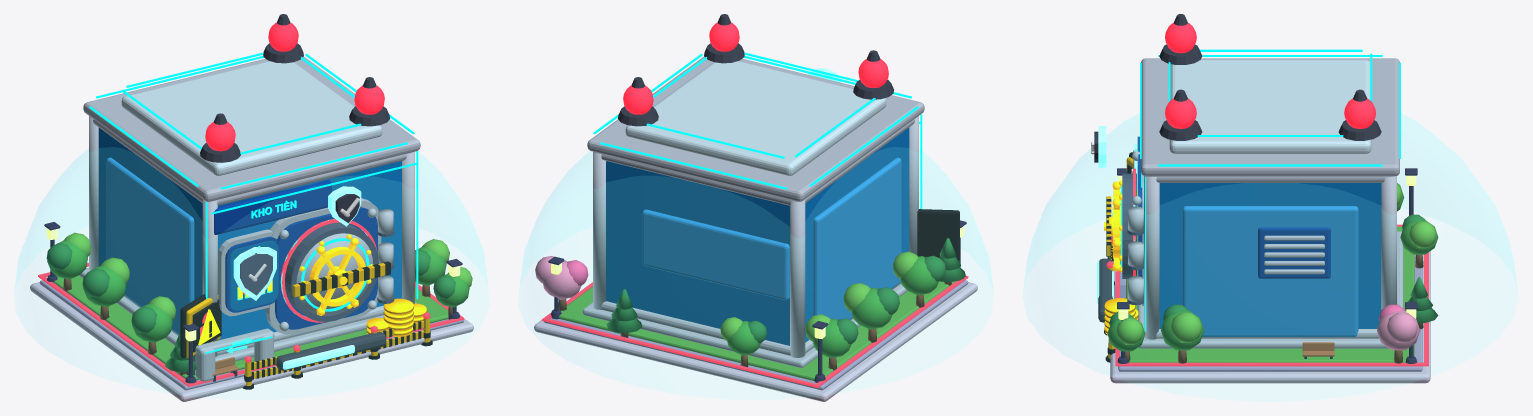
The picture shows the model from 3 angles, left to right: view 1: azimuth 30°, elevation 25°; view 2: azimuth 150°, elevation 25°; view 3: azimuth 270°, elevation 25°; orthographic projection. The views are drawn at different scales.
Visible parts, largest first — view 1: B03_shell, B03_plot, B03_state_recovery_shield_dome, B03_trees_leaf, B03_door_disc, B03_door_housing, B03_sign, B03_dashboard_frame, B03_state_incident_door_lock, B03_state_incident_barrier, B03_door_wheel, B03_gate (+17 smaller); view 2: B03_shell, B03_plot, B03_trees_leaf, B03_state_recovery_shield_dome, B03_state_incident_ring, B03_state_incident_lock_sign, B03_props, B03_state_incident_beacon_R, B03_state_incident_beacon_F, B03_state_incident_beacon_L, B03_trees_trunk, B03_state_incident_beacon_F_base (+2 smaller); view 3: B03_shell, B03_state_recovery_shield_dome, B03_plot, B03_trees_leaf, B03_vent, B03_state_incident_ring, B03_props, B03_hinge, B03_door_disc, B03_state_incident_beacon_F, B03_state_incident_beacon_R, B03_state_incident_beacon_L (+10 smaller).
Boxes of the visible parts, x1,y1,x2,y2 form: B03_shell: [79, 52, 420, 361]; B03_plot: [30, 275, 473, 401]; B03_state_recovery_shield_dome: [14, 149, 487, 290]; B03_trees_leaf: [46, 232, 472, 372]; B03_door_disc: [285, 222, 378, 321]; B03_door_housing: [265, 198, 381, 334]; B03_sign: [214, 180, 331, 234]; B03_dashboard_frame: [218, 229, 278, 316]; B03_state_incident_door_lock: [280, 219, 390, 322]; B03_state_incident_barrier: [243, 312, 432, 389]; B03_door_wheel: [300, 237, 373, 315]; B03_gate: [195, 328, 274, 381]; B03_shell: [582, 52, 924, 367]; B03_plot: [534, 280, 977, 401]; B03_trees_leaf: [535, 238, 965, 358]; B03_state_recovery_shield_dome: [520, 149, 993, 290]; B03_state_incident_ring: [542, 275, 968, 387]; B03_state_incident_lock_sign: [917, 209, 959, 260]; B03_props: [548, 220, 966, 382]; B03_state_incident_beacon_R: [623, 77, 653, 114]; B03_state_incident_beacon_F: [709, 14, 739, 51]; B03_state_incident_beacon_L: [858, 50, 888, 87]; B03_trees_trunk: [558, 282, 951, 370]; B03_state_incident_beacon_F_base: [704, 43, 744, 63]; B03_shell: [1137, 49, 1403, 348]; B03_state_recovery_shield_dome: [1023, 113, 1517, 293]; B03_plot: [1110, 226, 1430, 383]; B03_trees_leaf: [1107, 183, 1438, 351]; B03_vent: [1258, 227, 1330, 278]; B03_state_incident_ring: [1115, 224, 1428, 366]; B03_props: [1117, 168, 1417, 363]; B03_hinge: [1127, 206, 1143, 305]; B03_door_disc: [1119, 173, 1136, 278]; B03_state_incident_beacon_F: [1165, 89, 1196, 128]; B03_state_incident_beacon_R: [1344, 89, 1375, 128]; B03_state_incident_beacon_L: [1165, 14, 1196, 53].
Size of the model in its own units: 31 by 17.7 by 31.
